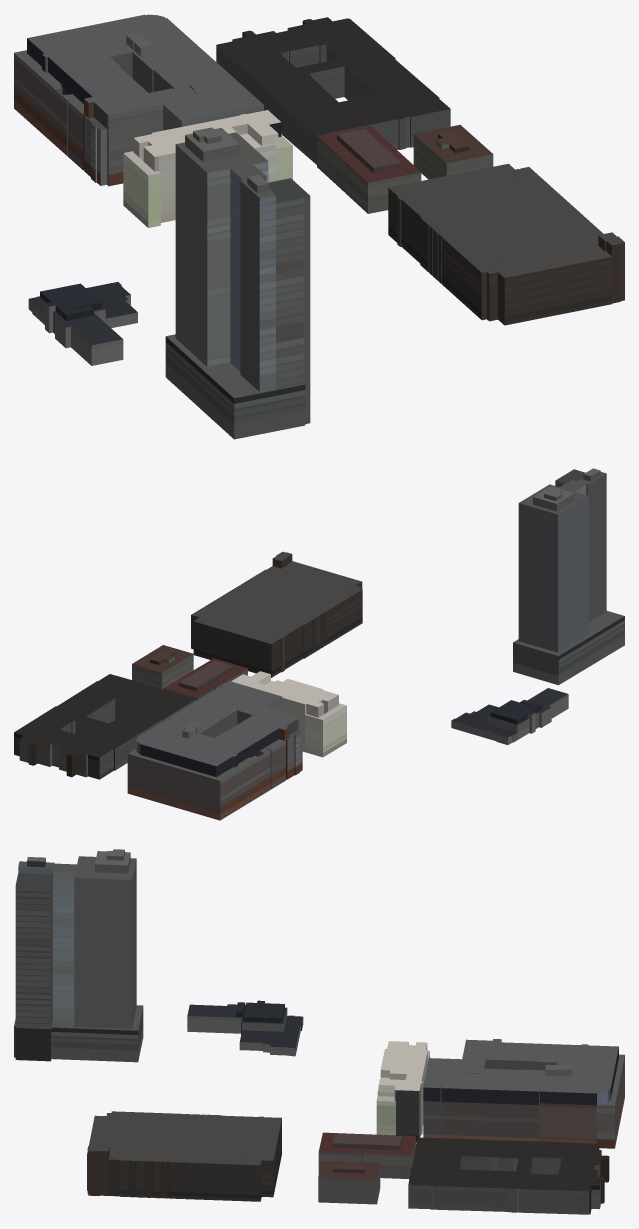
Rendered from t_-2_-2.far.glb.
3 renders of one model, top to bottom at view 1: azimuth 30°, elevation 25°; view 2: azimuth 150°, elevation 25°; view 3: azimuth 270°, elevation 25°, orthographic. The views are drawn at different scales.
Visible parts, largest first — view 1: opaque; view 2: opaque; view 3: opaque.
Part boxes in pixels (x1,y1,x2,y2): opaque: (14,14,624,439); opaque: (14,468,624,820); opaque: (14,849,624,1214).
Bounding box in the file's own units: 214 × 99.1 × 284.
Materials: 1 (1 with a texture image).
